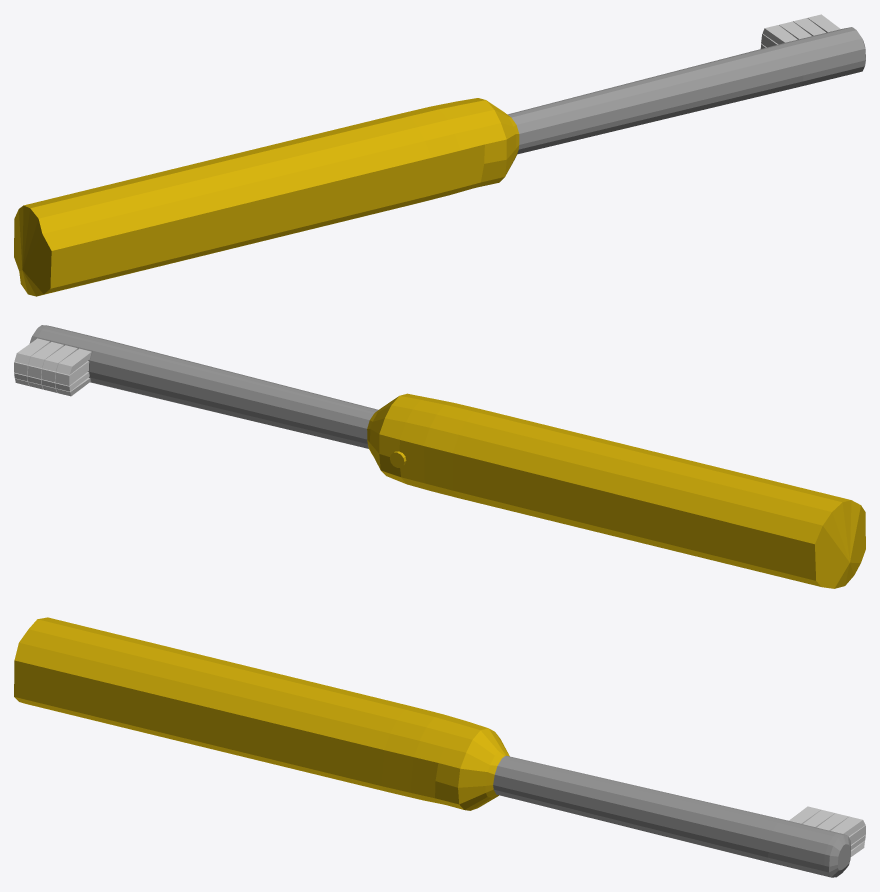
Rendered from LudumDareToothbrush.fbx.
3 views of the same model, one above another, from view 1: azimuth 30°, elevation 25°; view 2: azimuth 150°, elevation 25°; view 3: azimuth 330°, elevation 25° (orthographic). The views are drawn at different scales.
Visible parts, largest first — view 1: Toothbrush, Toothbrush.002, Toothbrush.001; view 2: Toothbrush, Toothbrush.002, Toothbrush.001; view 3: Toothbrush, Toothbrush.002, Toothbrush.001.
Part boxes in pixels (x1,y1,x2,y2): Toothbrush: (14, 98, 519, 296); Toothbrush.002: (507, 27, 865, 154); Toothbrush.001: (760, 14, 840, 48); Toothbrush: (367, 393, 865, 588); Toothbrush.002: (29, 325, 378, 448); Toothbrush.001: (14, 338, 91, 396); Toothbrush: (14, 617, 509, 810); Toothbrush.002: (493, 755, 850, 877); Toothbrush.001: (789, 806, 865, 856).
Bounding box in the file's own units: 23.76 × 2.32 × 2.66.
